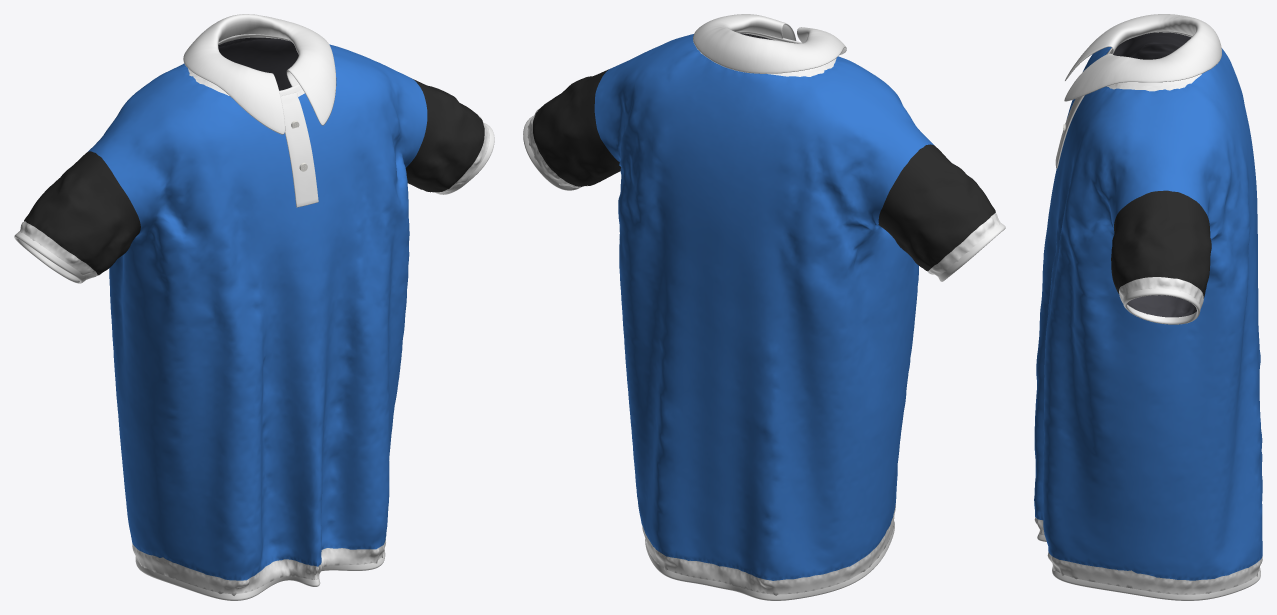
The model's file is club.glb.
3 views of the same model, side by side, from view 1: azimuth 30°, elevation 25°; view 2: azimuth 150°, elevation 25°; view 3: azimuth 270°, elevation 25° (orthographic).
Visible parts, largest first — view 1: Jersey; view 2: Jersey; view 3: Jersey.
Part boxes in pixels (x1=…): Jersey: x1=14, y1=14, x2=494, y2=600; Jersey: x1=523, y1=14, x2=1005, y2=600; Jersey: x1=1034, y1=14, x2=1262, y2=600.
Bounding box in the file's own units: 2.62 × 2.84 × 1.11.
